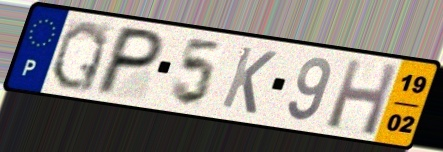5: (167, 35, 227, 107)
9: (285, 55, 333, 124)
H: (323, 56, 401, 139)
K: (217, 43, 280, 117)
P: (90, 23, 169, 97)
Q: (47, 18, 112, 95)
